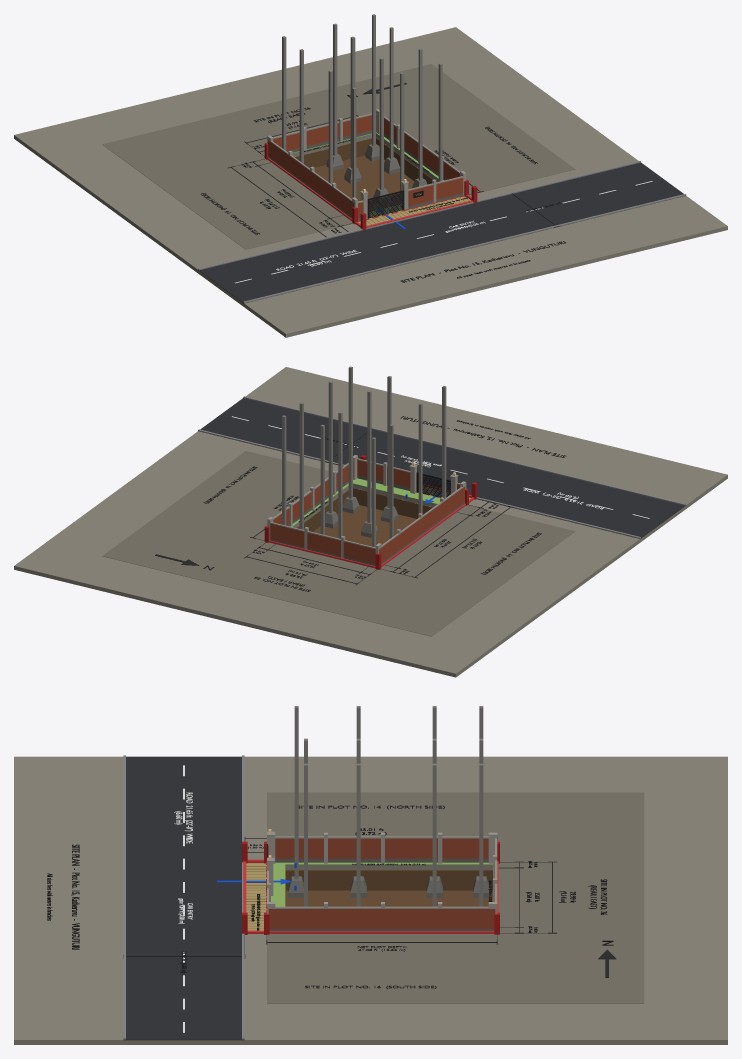
File: 03_site_wall_pillars.glb
3 views of the same model, one above another, from view 1: azimuth 30°, elevation 25°; view 2: azimuth 150°, elevation 25°; view 3: azimuth 270°, elevation 25° (orthographic). The views are drawn at different scales.
Visible parts, largest first — view 1: Pit_01_Terrain, 01_Neighbour_Plot, 05_Road, PIL_Concrete, Pit_Soil, 05_Kerb, Wall_North, Wall_Rear, BAS_Footing, Wall_Front_with_Gate, Wall_Piers_and_Pillars, Wall_South (+5 smaller); view 2: Pit_01_Terrain, 01_Neighbour_Plot, 05_Road, PIL_Concrete, Pit_Soil, 05_Kerb, Wall_Rear, Wall_North, Wall_Piers_and_Pillars, 06_Dim_Line, Wall_South, BAS_Footing (+5 smaller); view 3: Pit_01_Terrain, 01_Neighbour_Plot, 05_Road, Pit_Soil, Wall_South, Wall_North, PIL_Concrete, 05_Kerb, Wall_Coping, Wall_Piers_and_Pillars, 02_Road_Widening, 03_Boundary_Line (+5 smaller).
Boxes of the visible parts, bbox=[...] form: Pit_01_Terrain: bbox=[14, 27, 727, 337]; 01_Neighbour_Plot: bbox=[102, 64, 575, 249]; 05_Road: bbox=[198, 162, 685, 303]; PIL_Concrete: bbox=[282, 14, 442, 203]; Pit_Soil: bbox=[294, 137, 436, 210]; 05_Kerb: bbox=[198, 161, 686, 303]; Wall_North: bbox=[268, 140, 354, 218]; Wall_Rear: bbox=[273, 114, 376, 152]; BAS_Footing: bbox=[326, 144, 427, 204]; Wall_Front_with_Gate: bbox=[358, 178, 463, 221]; Wall_Piers_and_Pillars: bbox=[267, 109, 466, 218]; Wall_South: bbox=[384, 118, 459, 180]; Pit_01_Terrain: bbox=[14, 367, 727, 677]; 01_Neighbour_Plot: bbox=[102, 451, 575, 636]; 05_Road: bbox=[198, 398, 685, 538]; PIL_Concrete: bbox=[282, 366, 446, 547]; Pit_Soil: bbox=[297, 488, 432, 546]; 05_Kerb: bbox=[198, 396, 686, 538]; Wall_Rear: bbox=[270, 523, 375, 566]; Wall_North: bbox=[379, 486, 465, 564]; Wall_Piers_and_Pillars: bbox=[267, 455, 466, 558]; 06_Dim_Line: bbox=[155, 429, 513, 585]; Wall_South: bbox=[273, 462, 353, 526]; BAS_Footing: bbox=[325, 496, 398, 537]; Pit_01_Terrain: bbox=[14, 756, 727, 1044]; 01_Neighbour_Plot: bbox=[267, 792, 644, 1003]; 05_Road: bbox=[123, 756, 244, 1040]; Pit_Soil: bbox=[285, 870, 492, 906]; Wall_South: bbox=[268, 909, 495, 931]; Wall_North: bbox=[275, 838, 488, 862]; PIL_Concrete: bbox=[294, 706, 483, 906]; 05_Kerb: bbox=[123, 755, 244, 1039]; Wall_Coping: bbox=[267, 836, 497, 908]; Wall_Piers_and_Pillars: bbox=[267, 832, 497, 913]; 02_Road_Widening: bbox=[246, 863, 266, 930]; 03_Boundary_Line: bbox=[243, 859, 498, 933].
Size of the model in its own units: 36.4 by 11.37 by 38.8.
